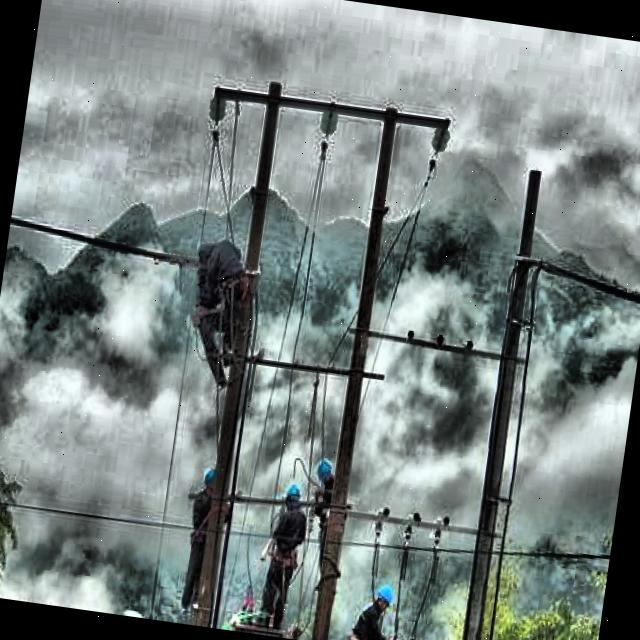helmet: (371, 578, 397, 613), (200, 464, 222, 497), (284, 478, 306, 510), (316, 458, 336, 490)
